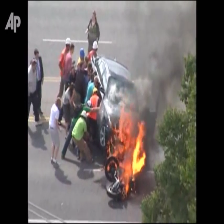fire_h: (106, 105, 147, 196)
fire_l: (107, 159, 118, 172)
